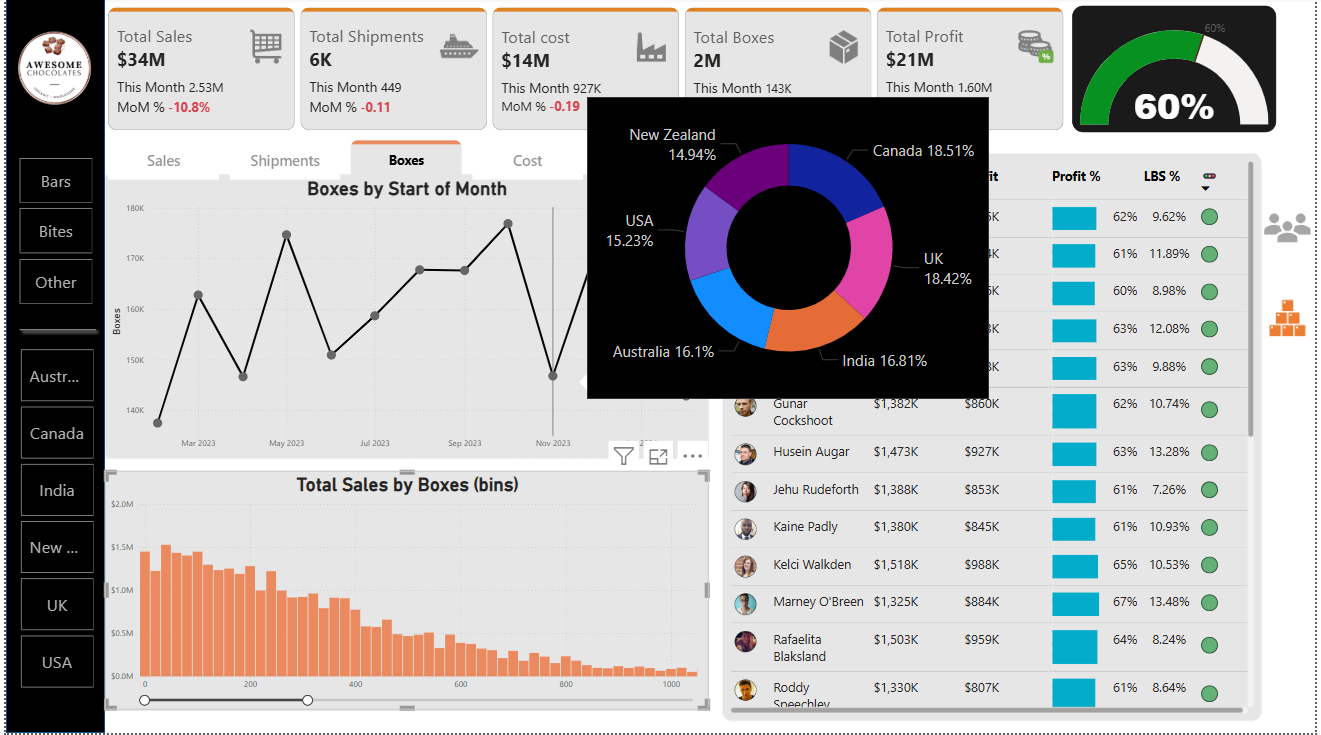

The dashboard page shown, as its layout file describes it:
{"tool":"powerbi","page":{"name":"Dashboard","canvas":[1920,1080],"ordinal":4},"visuals":[{"type":"cardVisual","fields":{"Data":["_Measures.Total Sales","_Measures.Total Shipments","_Measures.Total cost","_Measures.Total Boxes","_Measures.Total Profit"]},"box":[145.2,14.9,1413.2,182.5],"z":0},{"type":"gauge","fields":{"Y":["_Measures.Profit %"]},"box":[1564.6,12.8,299,185.3],"z":1000},{"type":"lineChart","fields":{"Y":["_Measures.Total Boxes"],"Category":["calendar.Start of Month"]},"box":[145.2,260.7,886.3,417.1],"z":2000},{"type":"advancedSlicerVisual","fields":{"Values":["Measure Selector.Measure Selector"]},"box":[145.2,205,886.3,63.3],"z":3000},{"type":"clusteredColumnChart","fields":{"Category":["shipments.Boxes (bins)"],"Y":["_Measures.Total Sales"]},"box":[145.2,694.5,886.3,351.9],"z":4000},{"type":"gauge","fields":{"Y":["_Measures.LBS %"]},"box":[832.7,719,179.8,95.4],"z":5000},{"type":"image","box":[748.4,731.9,97.2,69.7],"z":6000},{"type":"tableEx","title":"People Details","fields":{"Values":["people.Picture","people.Sales person","_Measures.Total Sales","_Measures.Total Profit","_Measures.Profit %","_Measures.LBS %","_Measures.Profit Target Indicator"]},"box":[1051,229.3,791,832.7],"z":7000},{"type":"shape","box":[0,0,145.2,1079.9],"z":9000},{"type":"image","title":"Product Icon","box":[1841.5,407.8,78.1,128],"z":10000},{"type":"image","box":[13,41,117.3,128.5],"z":11000},{"type":"advancedSlicerVisual","fields":{"Values":["products.Category"]},"box":[13,229,121,229],"z":12000},{"type":"advancedSlicerVisual","fields":{"Values":["locations.Geo"]},"box":[14.9,510.2,121,513.9],"z":13000},{"type":"shape","box":[11.2,467.3,130.3,41],"z":14000},{"type":"image","box":[1841.6,301.3,77.9,75.3],"z":15000}]}

Visuals, with their boxes on the page's 1920x1080 design canvas (x1, y1, x2, y2). These are canvas units, not pixel positions in the 1321x735 screenshot, which may show the page scaled, cropped or inside an application window:
cardVisual - _Measures.Total Sales x _Measures.Total Shipments: (145, 15, 1558, 197)
gauge - _Measures.Profit %: (1565, 13, 1864, 198)
lineChart - _Measures.Total Boxes x calendar.Start of Month: (145, 261, 1032, 678)
advancedSlicerVisual - Measure Selector.Measure Selector: (145, 205, 1032, 268)
clusteredColumnChart - shipments.Boxes (bins) x _Measures.Total Sales: (145, 694, 1032, 1046)
gauge - _Measures.LBS %: (833, 719, 1012, 814)
image: (748, 732, 846, 802)
"People Details" tableEx: (1051, 229, 1842, 1062)
shape: (0, 0, 145, 1080)
"Product Icon" image: (1842, 408, 1920, 536)
image: (13, 41, 130, 170)
advancedSlicerVisual - products.Category: (13, 229, 134, 458)
advancedSlicerVisual - locations.Geo: (15, 510, 136, 1024)
shape: (11, 467, 142, 508)
image: (1842, 301, 1920, 377)
